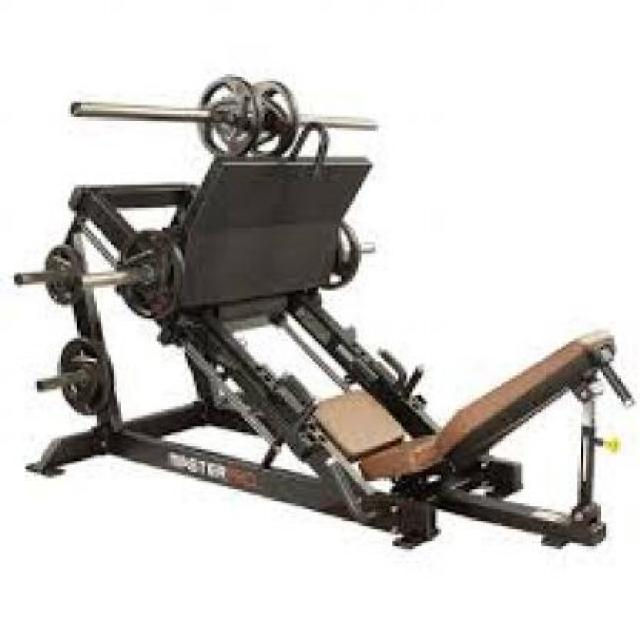leg press: (11, 29, 640, 585)
